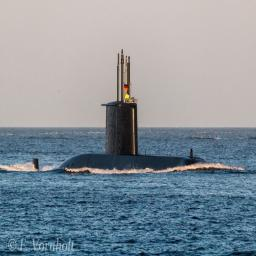submarine: (33, 47, 213, 170)
